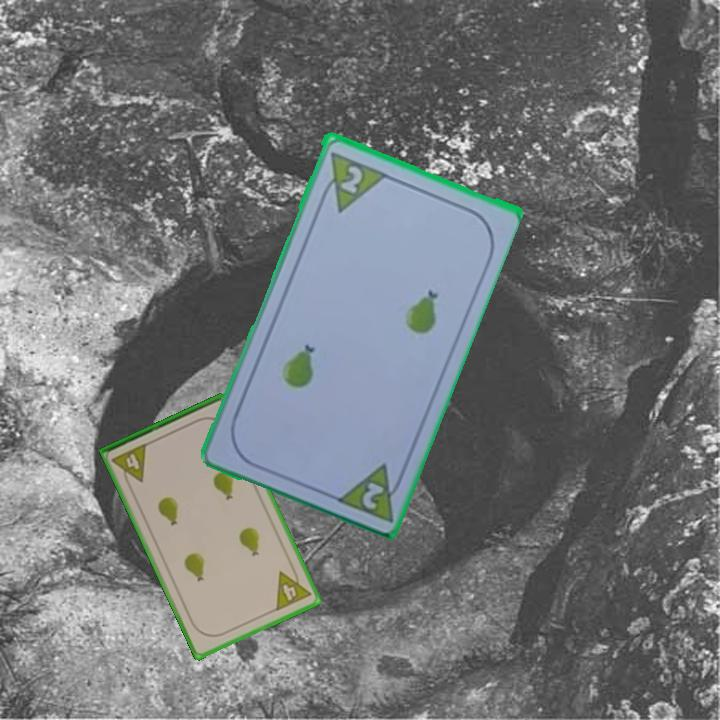2p: (331, 458, 408, 525), (315, 147, 388, 215)
4p: (272, 562, 314, 614), (108, 440, 150, 490)
